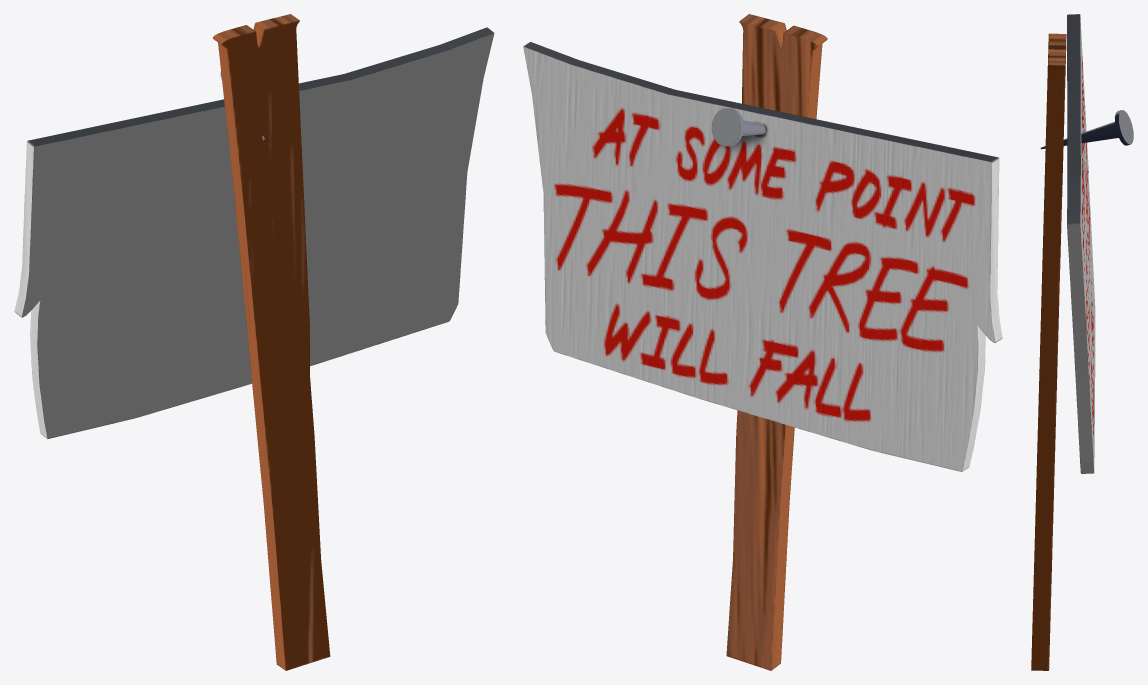
Rendered from sign.fbx.
3 views of the same model, side by side, from view 1: azimuth 30°, elevation 25°; view 2: azimuth 150°, elevation 25°; view 3: azimuth 270°, elevation 25° (orthographic). The views are drawn at different scales.
Visible parts, largest first — view 1: Everything__textured__connected__baked; view 2: Everything__textured__connected__baked; view 3: Everything__textured__connected__baked.
Part boxes in pixels (x1,y1,x2,y2): Everything__textured__connected__baked: [14, 14, 494, 670]; Everything__textured__connected__baked: [523, 14, 1002, 670]; Everything__textured__connected__baked: [1031, 14, 1133, 670].
Bounding box in the file's own units: 1134 × 1478 × 229.
